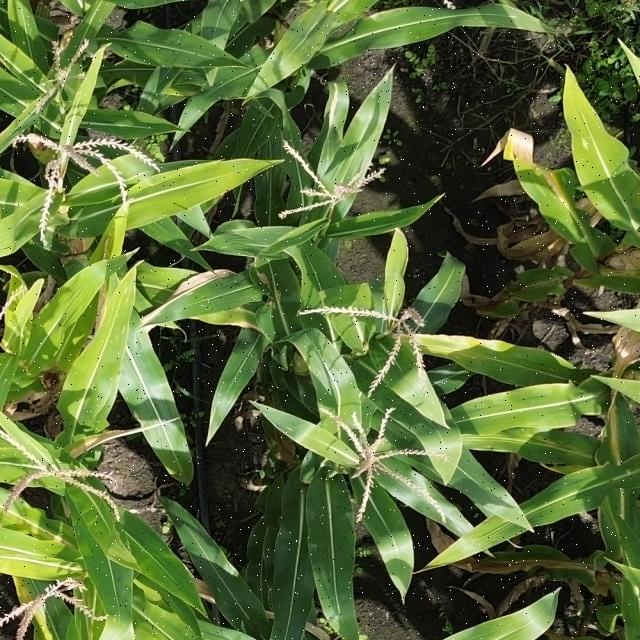gray-leaf-spot: (229, 123, 326, 202)
northern-leaf-blight: (500, 126, 600, 246)
southern-leaf-blight: (436, 332, 591, 424), (96, 269, 235, 343), (510, 408, 640, 482)
